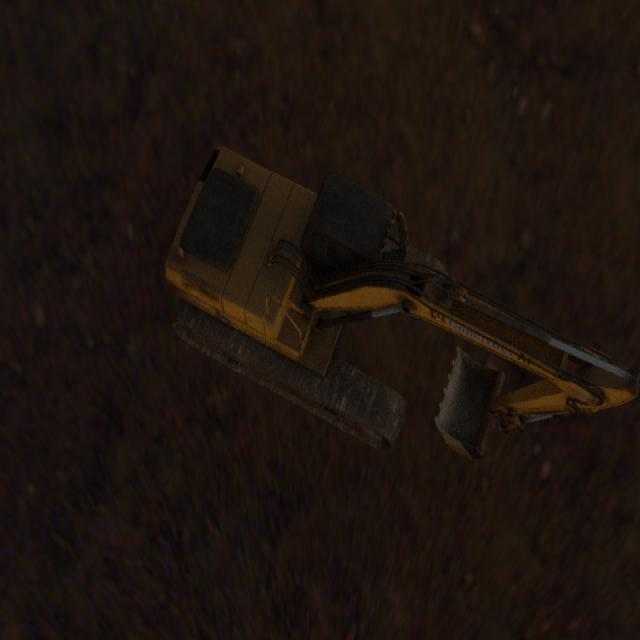excavator: (165, 145, 640, 459)
